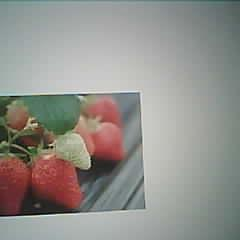straw-ripe: (32, 154, 81, 208), (0, 152, 31, 216)
straw-unripe: (55, 133, 91, 169)
